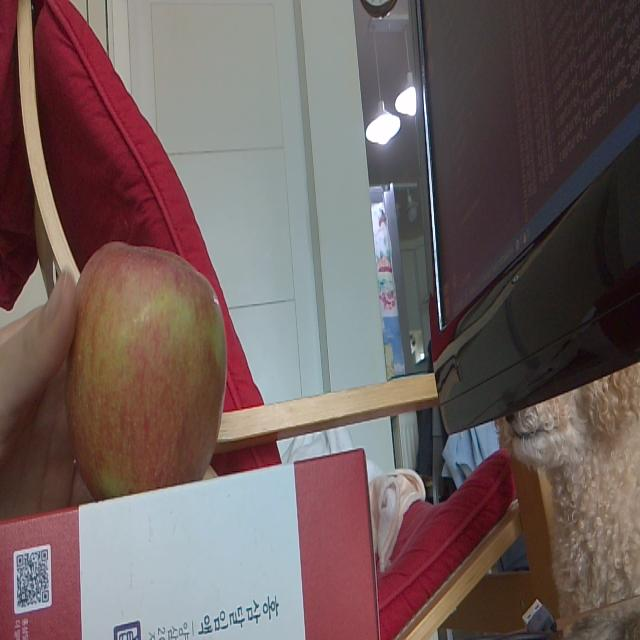apple: (65, 240, 229, 502)
